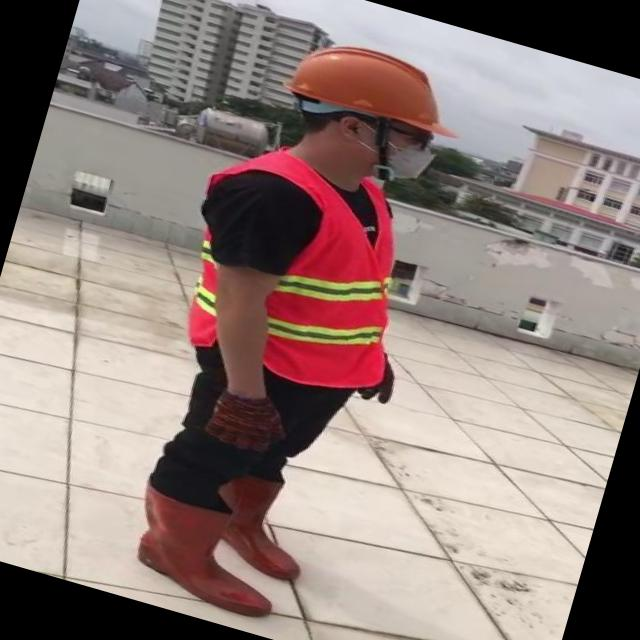hard_hat: (268, 21, 483, 149)
safety_vest: (172, 142, 432, 400)
vehicle: (78, 1, 491, 640)
work_boots: (118, 482, 296, 622), (211, 467, 326, 583)
